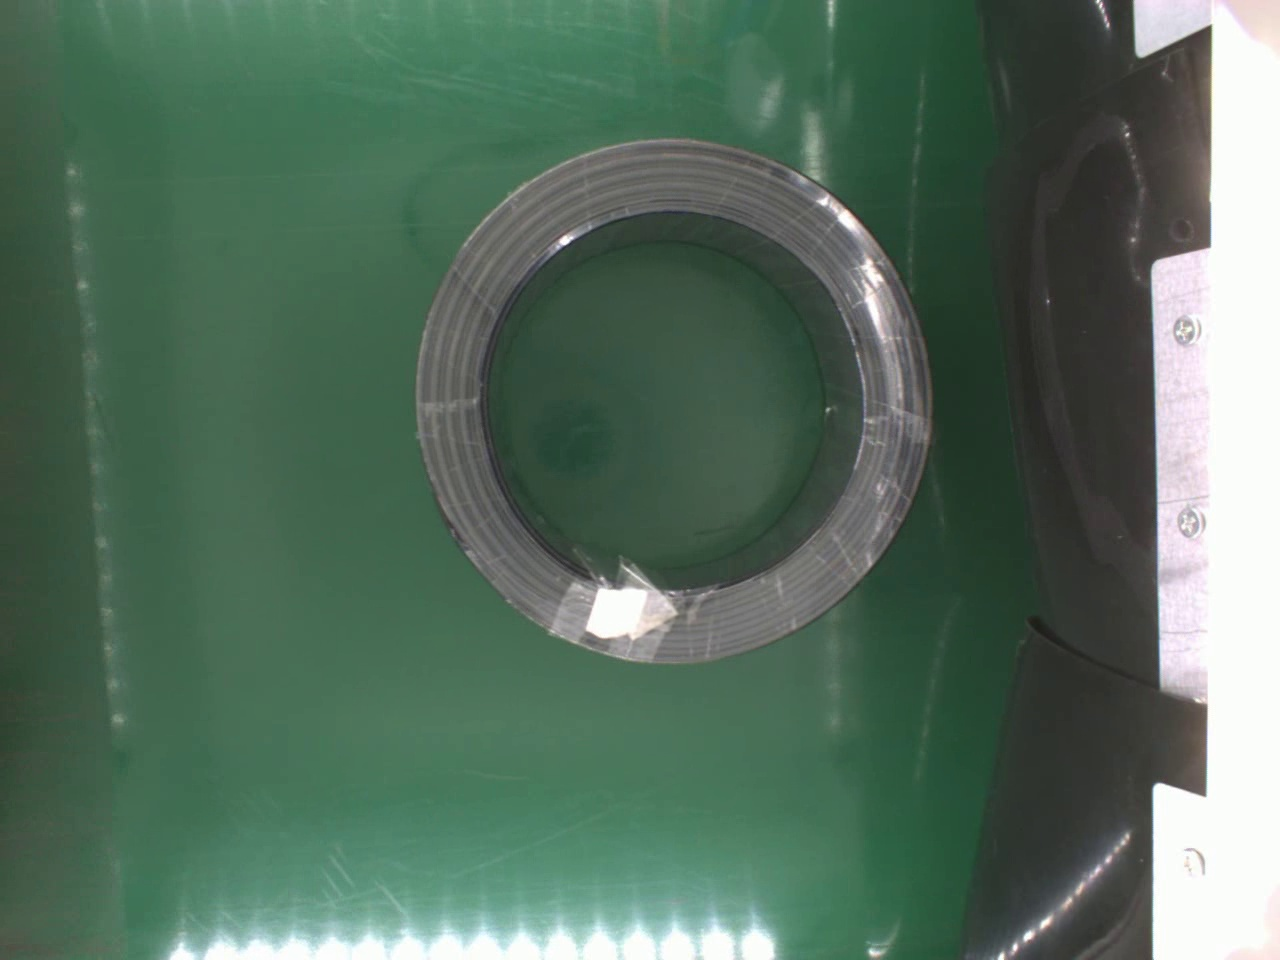black: (417, 135, 934, 670)
